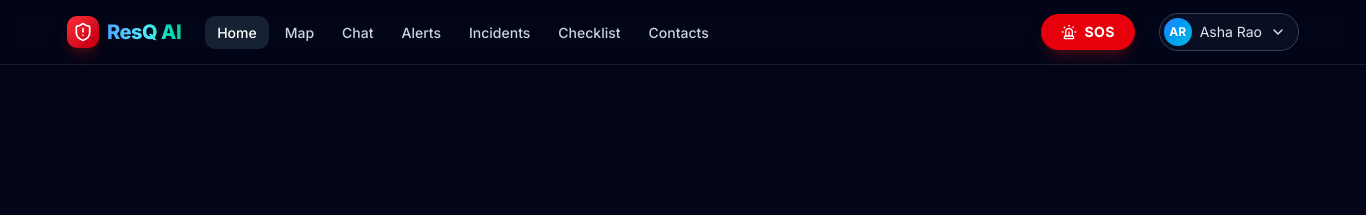
Test case: Navbar › shows the account menu with Profile and Sign out when signed in
Later steps or results of the test are not shown.
Click the button with aria-label "account menu for asha rao": (1229, 32) x1=1159 y1=13 x2=1299 y2=51
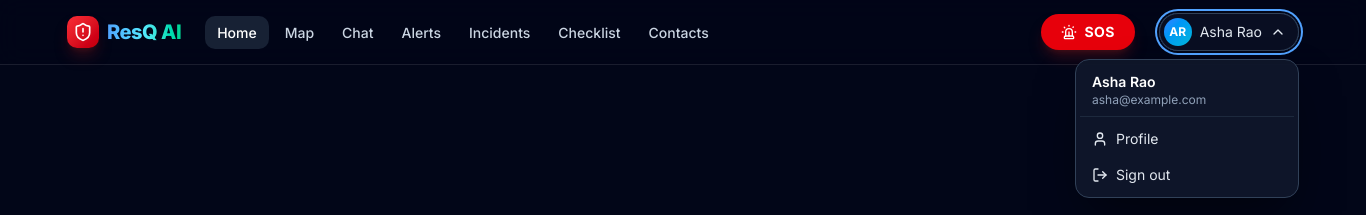
Expected: the button with aria-label "account menu for asha rao" is expanded, x1=1159 y1=13 x2=1299 y2=51
